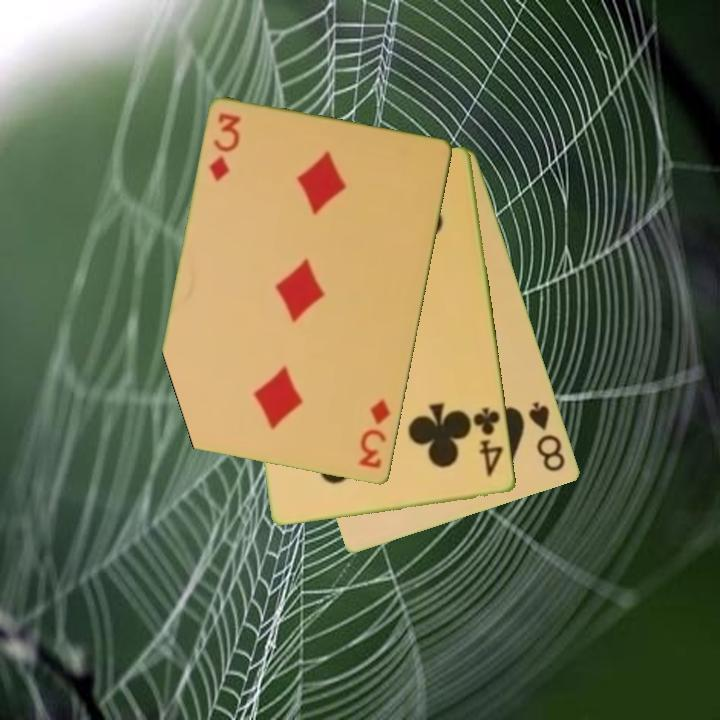3d: (356, 395, 394, 472), (206, 110, 244, 186)
4c: (470, 404, 507, 480)
8s: (525, 398, 569, 475)
